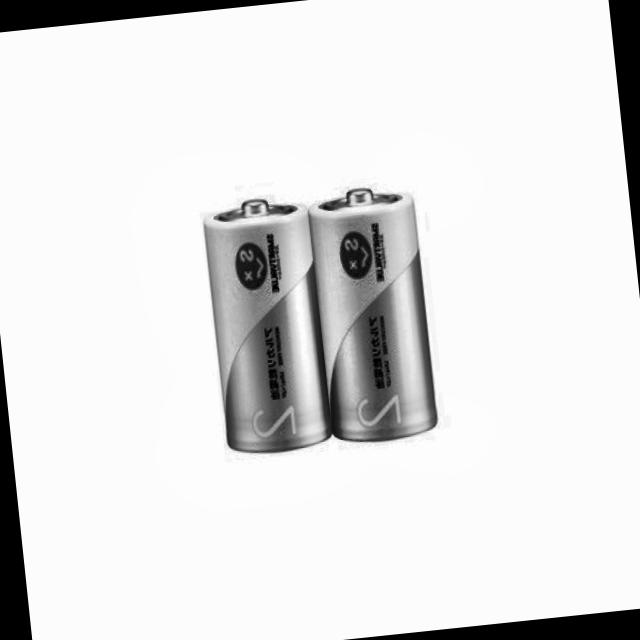drycell: (196, 192, 336, 460), (306, 182, 440, 446)
